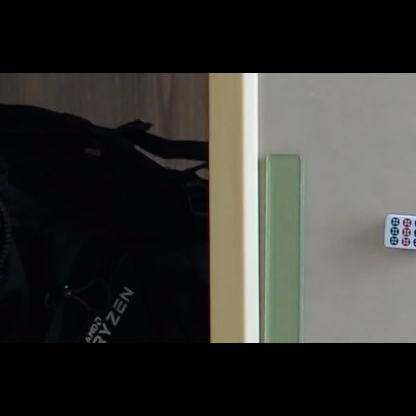9p: (389, 216, 416, 247)
